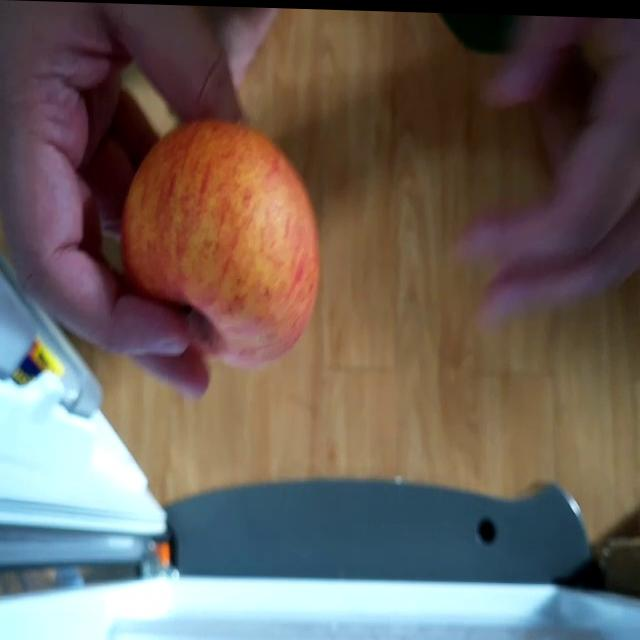apple: (111, 122, 316, 363)
